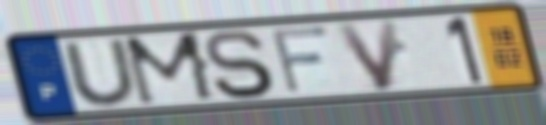1: (443, 14, 486, 87)
F: (267, 23, 333, 97)
M: (119, 29, 221, 109)
S: (201, 27, 279, 101)
U: (59, 36, 144, 109)
V: (330, 16, 402, 94)
